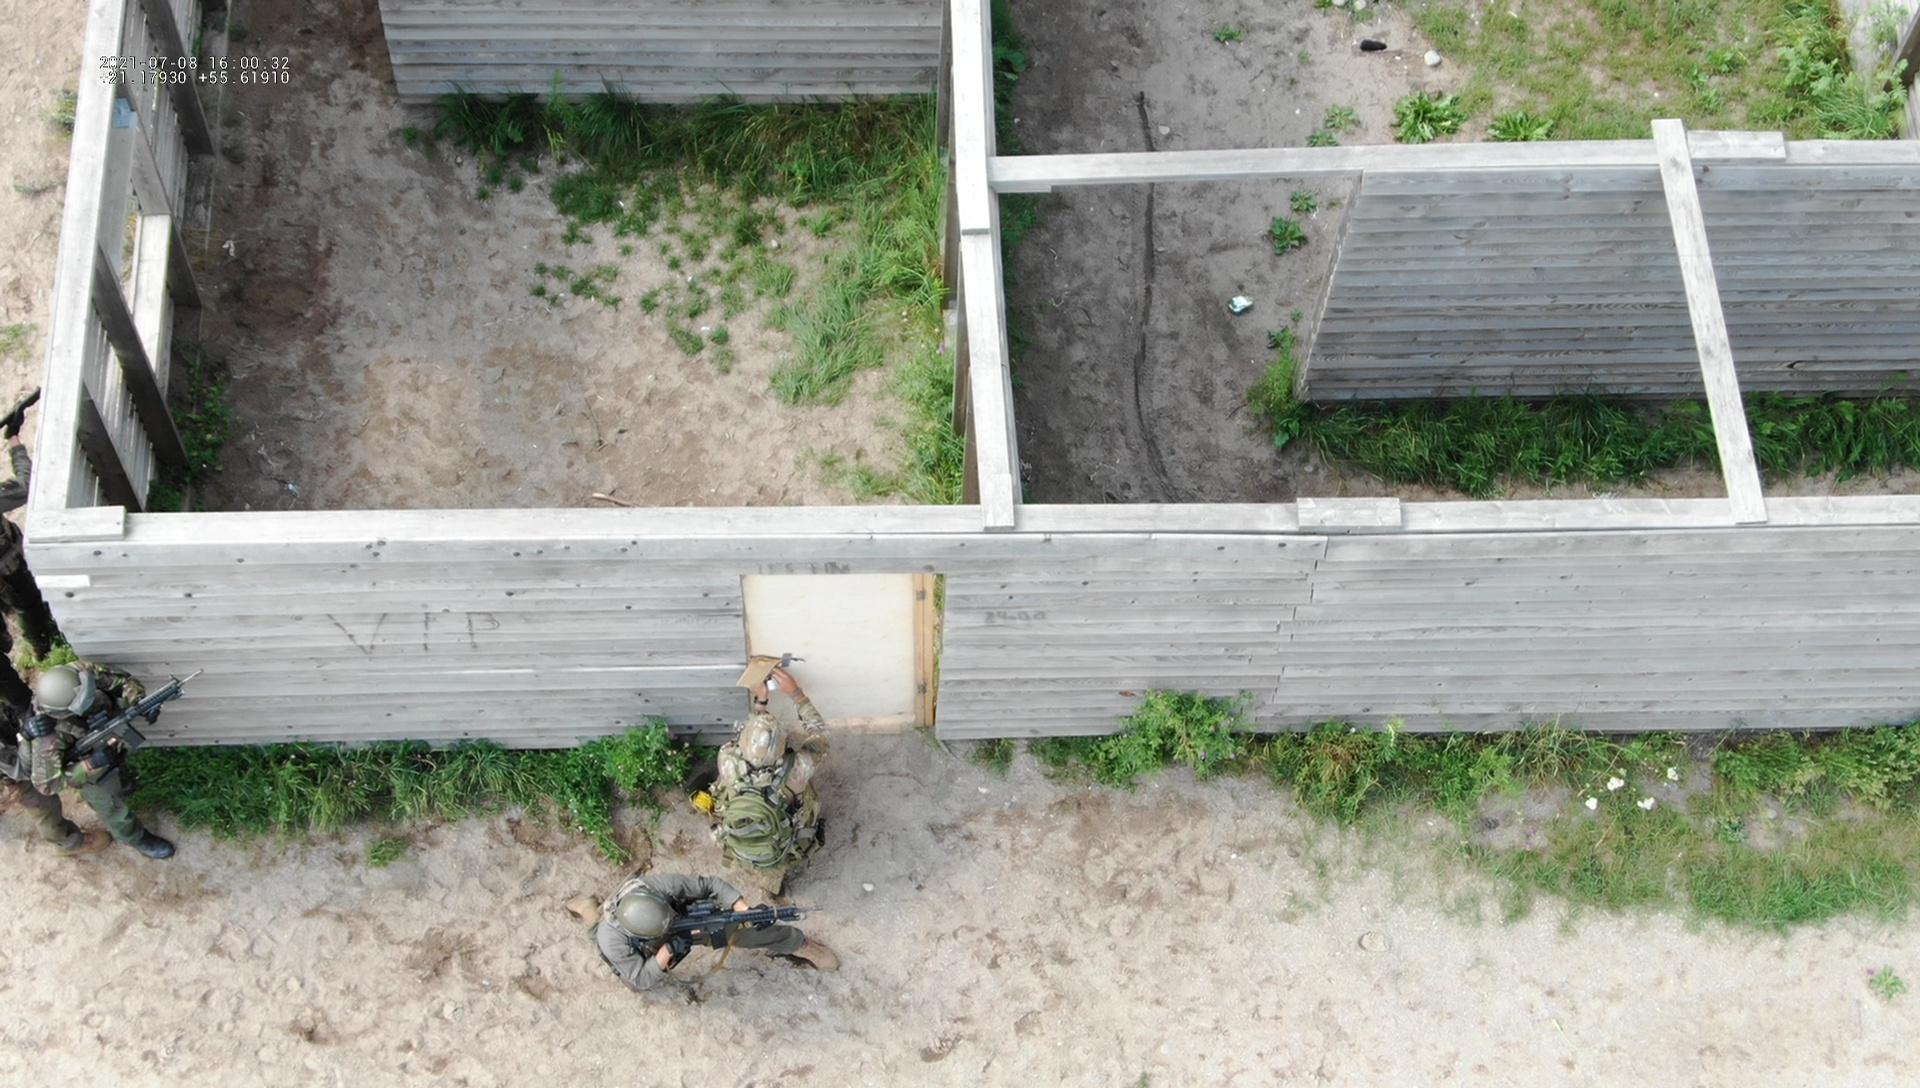Soldier: (601, 833, 857, 1044), (7, 615, 189, 876), (705, 713, 866, 886)
